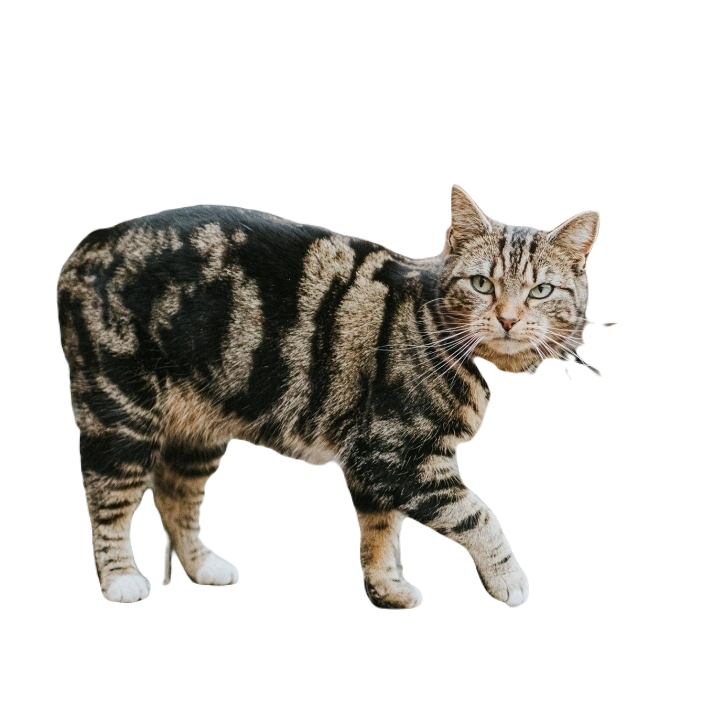Cat: (49, 163, 617, 615)
